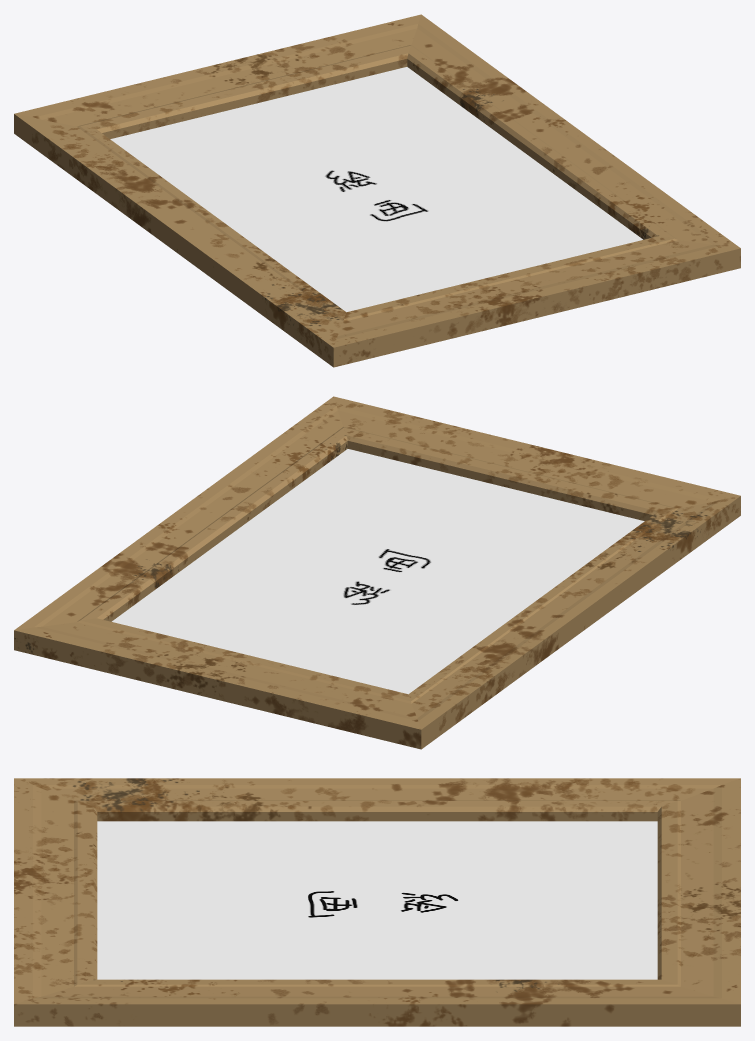
Rendered from Painting.fbx.
3 views of the same model, one above another, from view 1: azimuth 30°, elevation 25°; view 2: azimuth 150°, elevation 25°; view 3: azimuth 270°, elevation 25° (orthographic). The views are drawn at different scales.
Visible parts, largest first — view 1: Frame, Picture; view 2: Frame, Picture; view 3: Frame, Picture.
Boxes of the visible parts, <box> form: Frame: <box>14,14,740,367</box>; Picture: <box>110,67,642,312</box>; Frame: <box>14,396,740,749</box>; Picture: <box>112,449,644,694</box>; Frame: <box>14,778,740,1026</box>; Picture: <box>97,821,657,979</box>.
Bounding box in the file's own units: 70.49 × 3.27 × 95.79.
